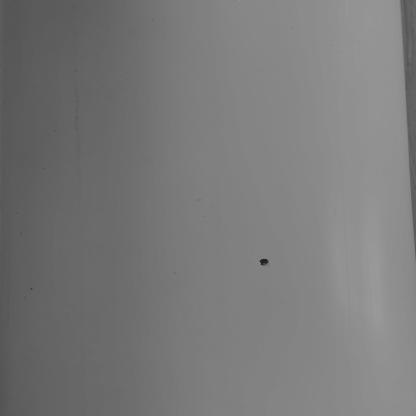kongdong: (256, 250, 277, 273)
